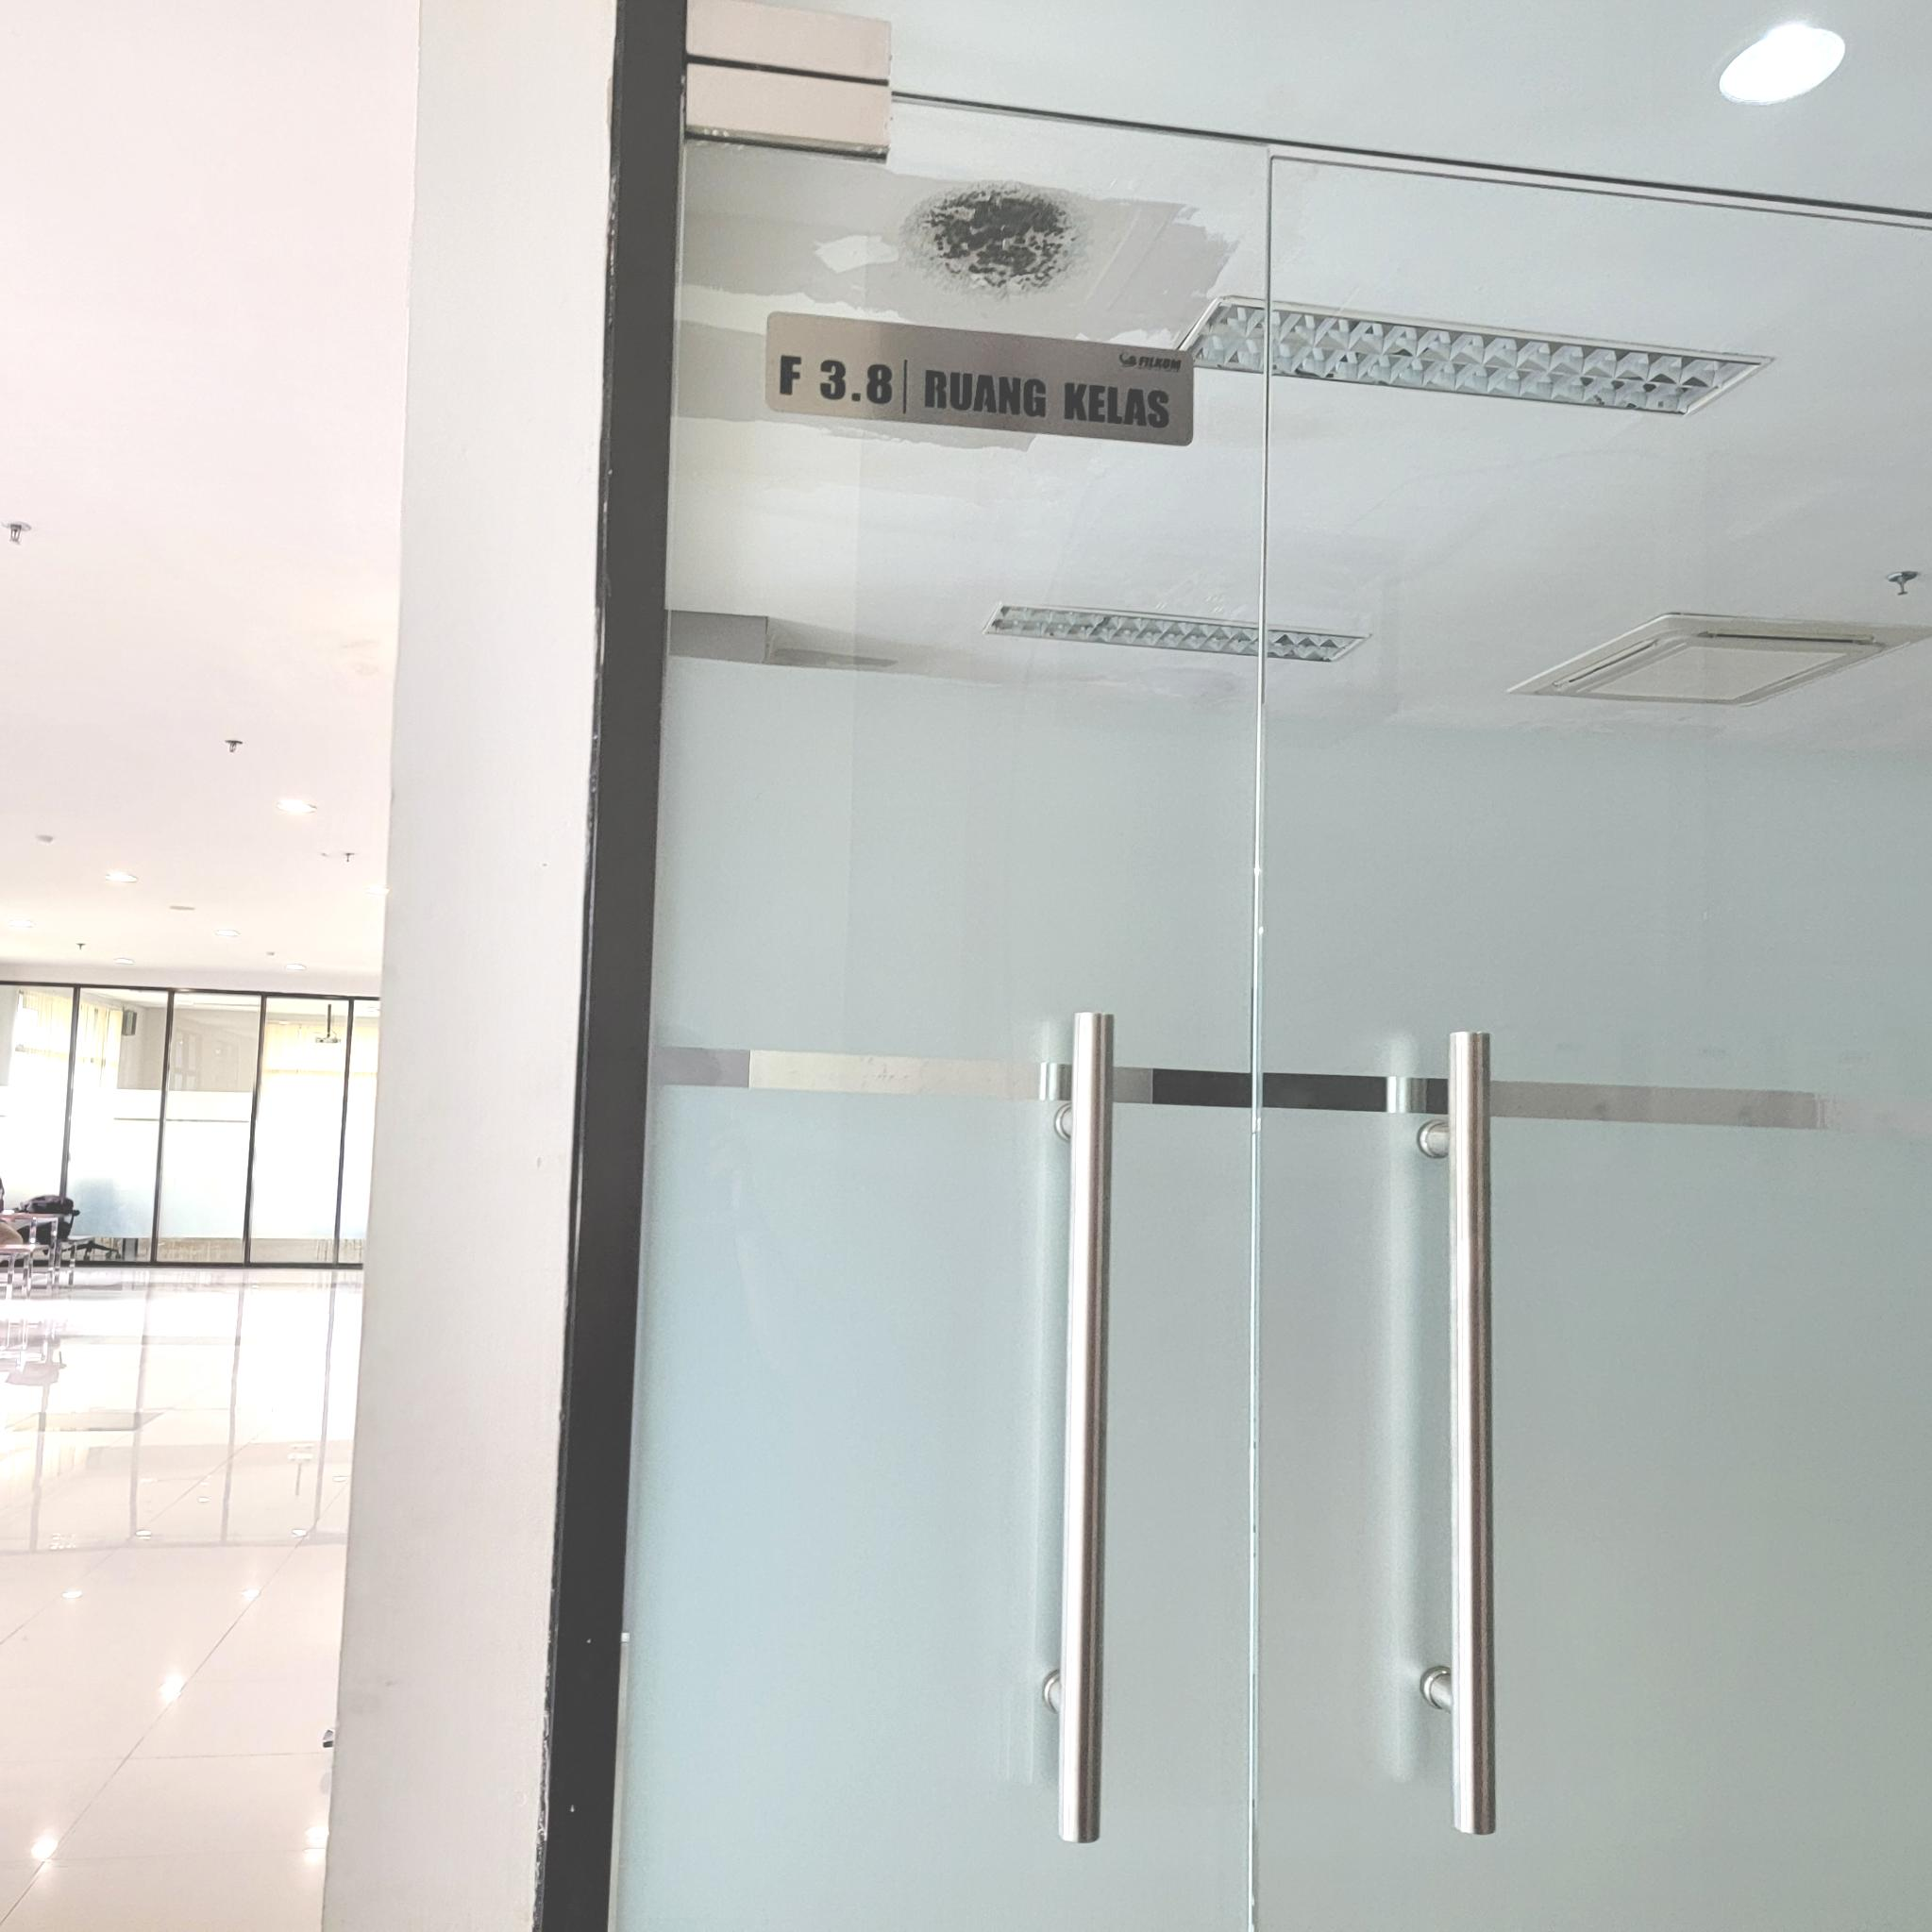plate: (759, 310, 1196, 449)
